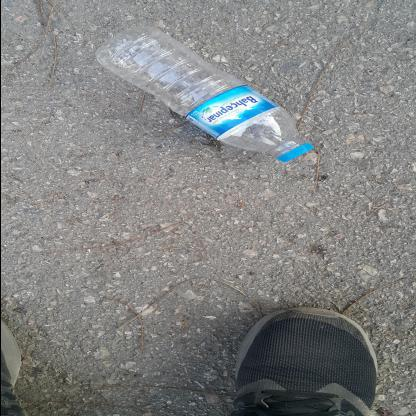plastik: (92, 27, 314, 163)
